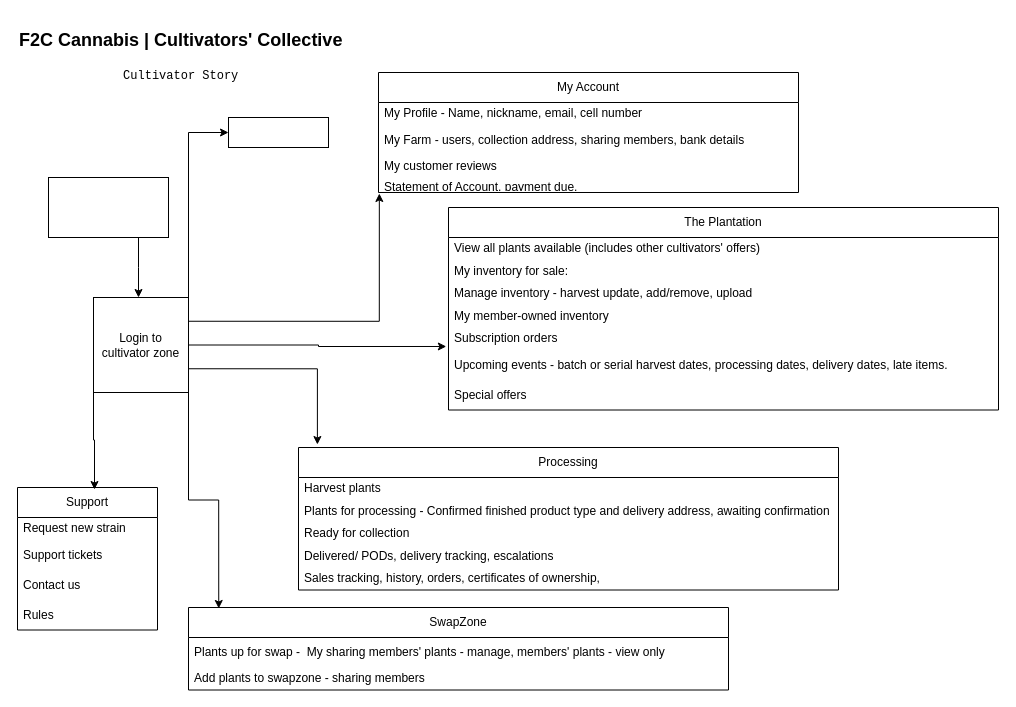
This 1016x707 diagram has some shape labels left out. The centre of each missing label's shape, as x and y in pixels:
"f2c-cannabis.co.za" goes at (108,207).
"Notifications" goes at (278,132).
